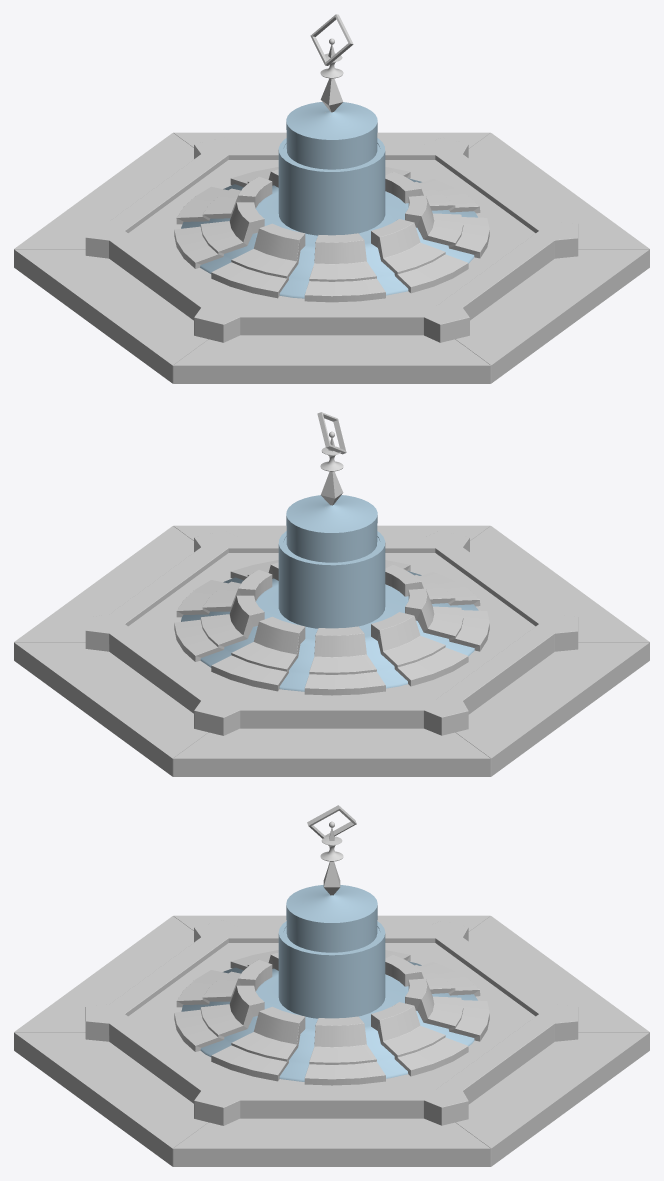
The picture shows the model from 3 angles, top to bottom: view 1: azimuth 30°, elevation 25°; view 2: azimuth 150°, elevation 25°; view 3: azimuth 270°, elevation 25°; orthographic projection.
Visible parts, largest first — view 1: foundation, border, Circle.001, water, water_surface, object, ring; view 2: foundation, border, Circle.001, water, water_surface, object, ring; view 3: foundation, border, Circle.001, water, water_surface, object, ring.
Part boxes in pixels (x1,y1,x2,y2): foundation: (14,132,649,383); border: (85,137,578,342); Circle.001: (174,167,489,302); water: (181,102,477,298); water_surface: (128,160,535,306); object: (320,38,343,116); ring: (310,14,353,65); foundation: (14,525,649,776); border: (85,530,578,735); Circle.001: (174,560,489,695); water: (181,495,478,691); water_surface: (128,553,535,699); object: (320,431,343,507); ring: (317,412,346,454); foundation: (14,915,649,1166); border: (85,920,578,1125); Circle.001: (174,950,489,1085); water: (181,885,477,1081); water_surface: (128,943,535,1089); object: (320,821,343,895); ring: (307,805,356,838).
Bounding box in the file's own units: 208 × 104 × 240.
